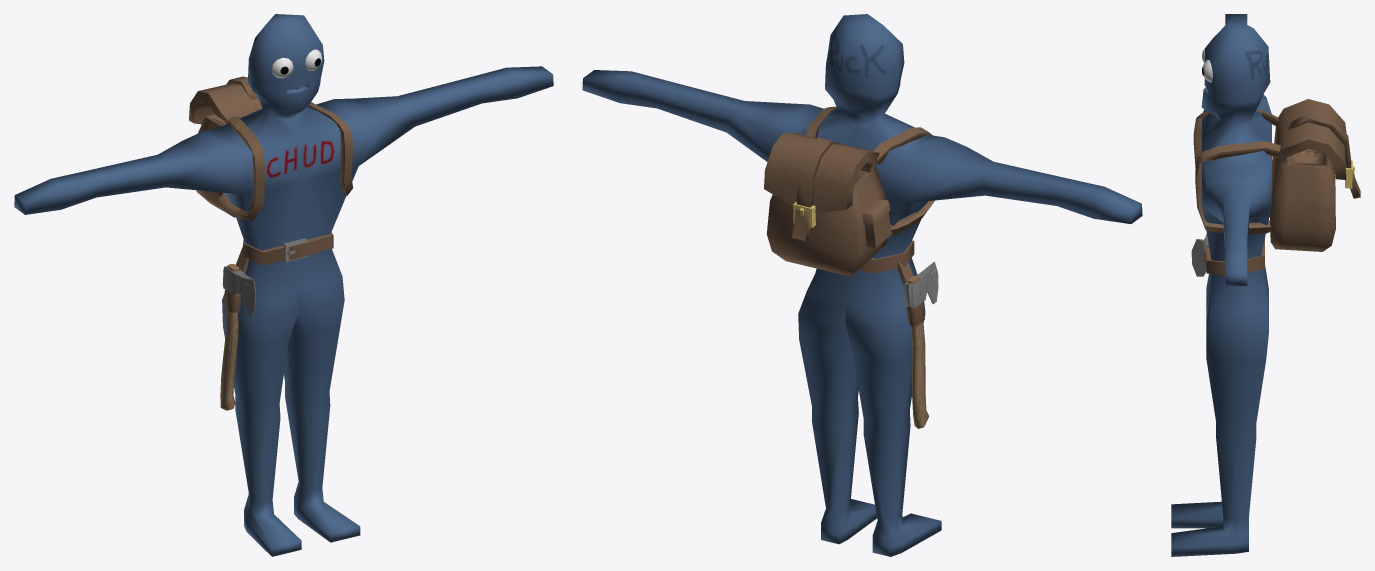
Rendered from character model export.glb.
The picture shows the model from 3 angles, left to right: view 1: azimuth 30°, elevation 25°; view 2: azimuth 150°, elevation 25°; view 3: azimuth 270°, elevation 25°; orthographic projection. The views are drawn at different scales.
Parts seen in each view (by area): view 1: Cube, Cube.002, Cube.015, Cube.008, Cube.010, Cube.014, Cube.007, Sphere.001; view 2: Cube, Cube.002, Cube.008, Cube.004, Cube.015, Cube.007, Cube.010; view 3: Cube, Cube.002, Cube.014, Cube.004, Cube.010, Cube.015, Cube.007.
Part boxes in pixels (x1,y1,x2,y2): Cube: (14, 14, 553, 556); Cube.002: (189, 83, 262, 217); Cube.015: (218, 116, 264, 221); Cube.008: (220, 264, 239, 410); Cube.010: (243, 232, 333, 265); Cube.014: (308, 102, 352, 195); Cube.007: (222, 266, 255, 318); Sphere.001: (271, 49, 322, 78); Cube: (582, 14, 1142, 556); Cube.002: (764, 132, 891, 276); Cube.008: (907, 276, 928, 428); Cube.004: (796, 137, 841, 207); Cube.015: (873, 127, 934, 235); Cube.007: (904, 261, 938, 307); Cube.010: (859, 240, 914, 273); Cube: (1171, 14, 1271, 556); Cube.002: (1269, 99, 1346, 251); Cube.014: (1195, 141, 1280, 234); Cube.004: (1288, 112, 1351, 168); Cube.010: (1204, 233, 1264, 275); Cube.015: (1193, 110, 1278, 168); Cube.007: (1191, 239, 1206, 276).
Size of the model in its own units: 3.98 by 3.65 by 1.23.
4 materials, 2 textured.
